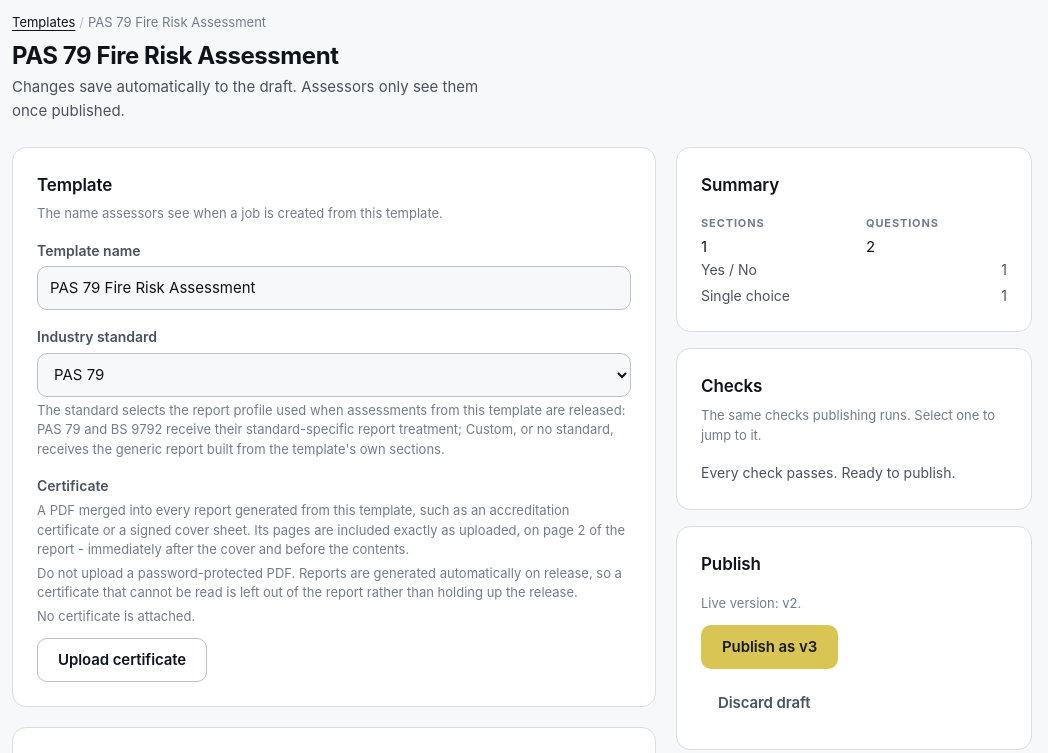
Test: TemplateBuilder › autosaves the whole draft object after the debounce
The image size is (1048, 753).
Step 1. Replace the text in the field labelled "Template name" with "BS 9792 Residential FRA" → (334, 288), box left=37, top=266, right=631, bottom=310
Wait 800 ms
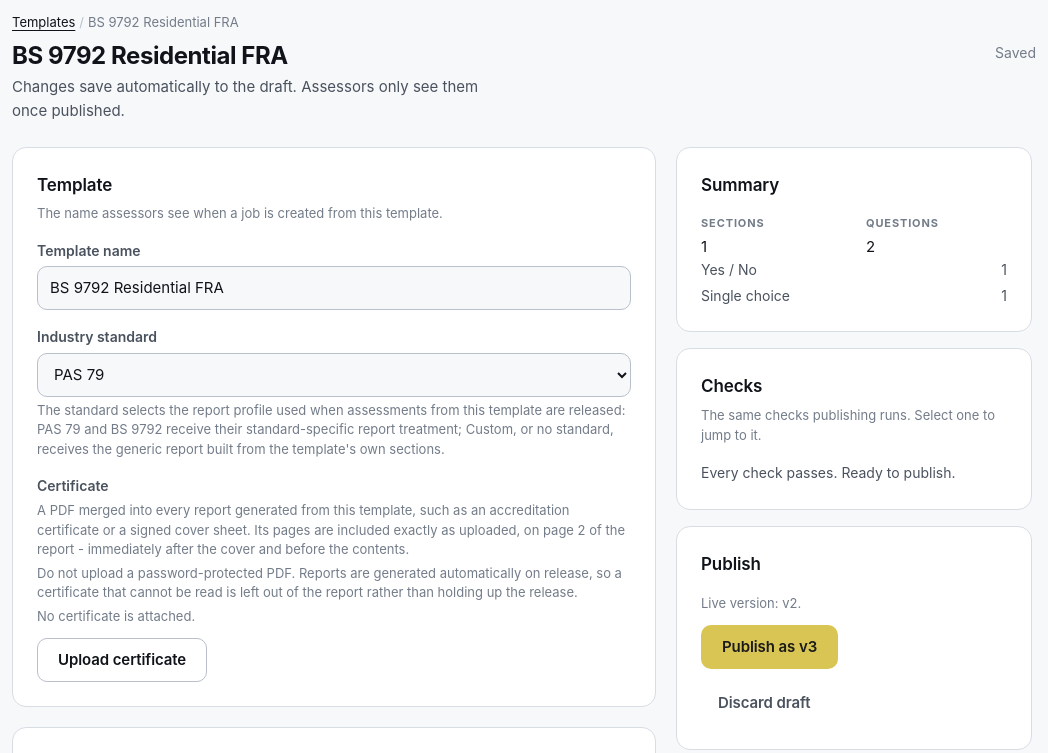
Now the text "BS 9792 Residential FRA" is shown, box left=88, top=12, right=239, bottom=33
Now the text "Saved" is shown, box left=995, top=44, right=1036, bottom=61
